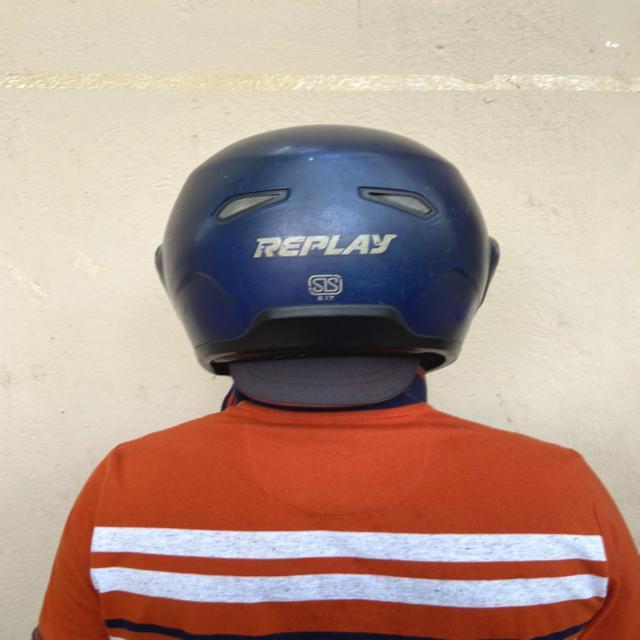With Helmet: (153, 124, 500, 378)
